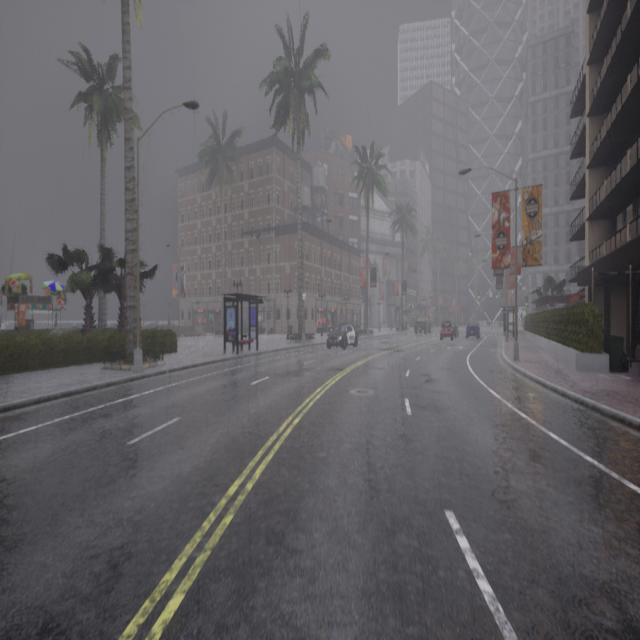9: (525, 295, 528, 306), (495, 290, 498, 298), (478, 290, 480, 299)
bien_hieu_lenh: (525, 302, 528, 306), (495, 295, 498, 297), (478, 296, 480, 298)
